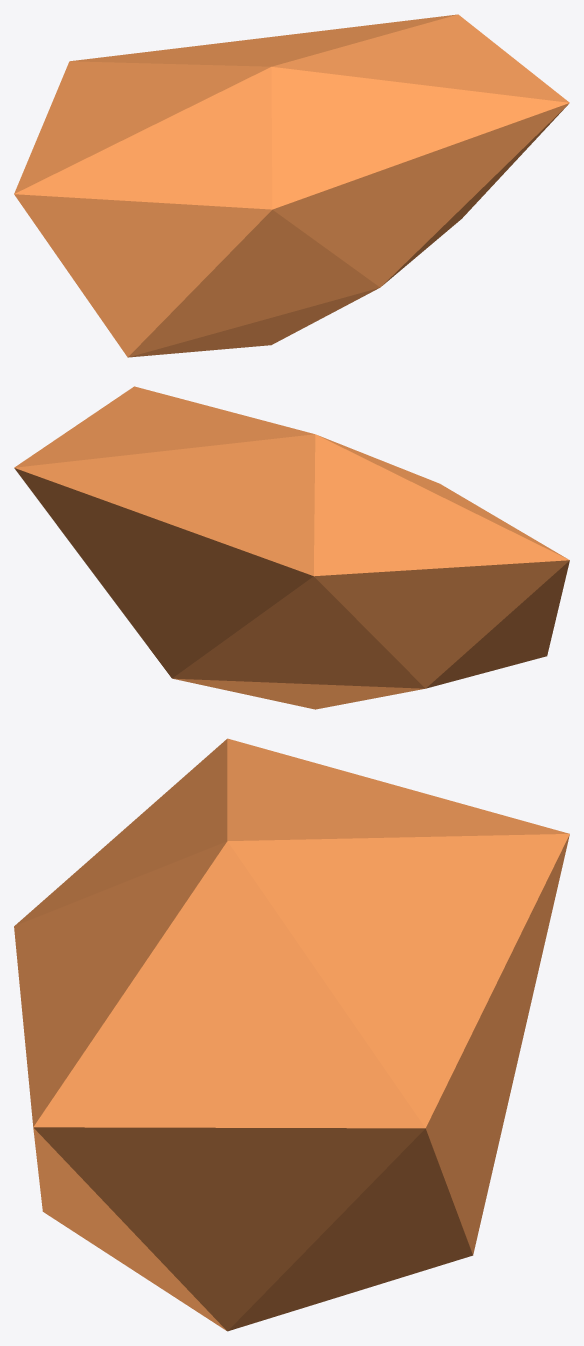
File: FlameMineShard.fbx
3 renders of one model, top to bottom at view 1: azimuth 30°, elevation 25°; view 2: azimuth 150°, elevation 25°; view 3: azimuth 270°, elevation 25°, orthographic. The views are drawn at different scales.
Parts seen in each view (by area): view 1: shard_fire; view 2: shard_fire; view 3: shard_fire.
Boxes of the visible parts, <box> form: shard_fire: <box>14,14,569,357</box>; shard_fire: <box>14,386,569,709</box>; shard_fire: <box>14,738,569,1331</box>.
Size of the model in its own units: 0.2008 by 0.1062 by 0.1142.
